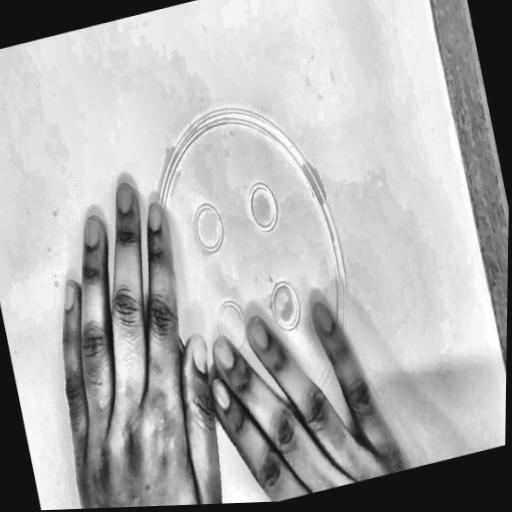button: (117, 75, 382, 469)
